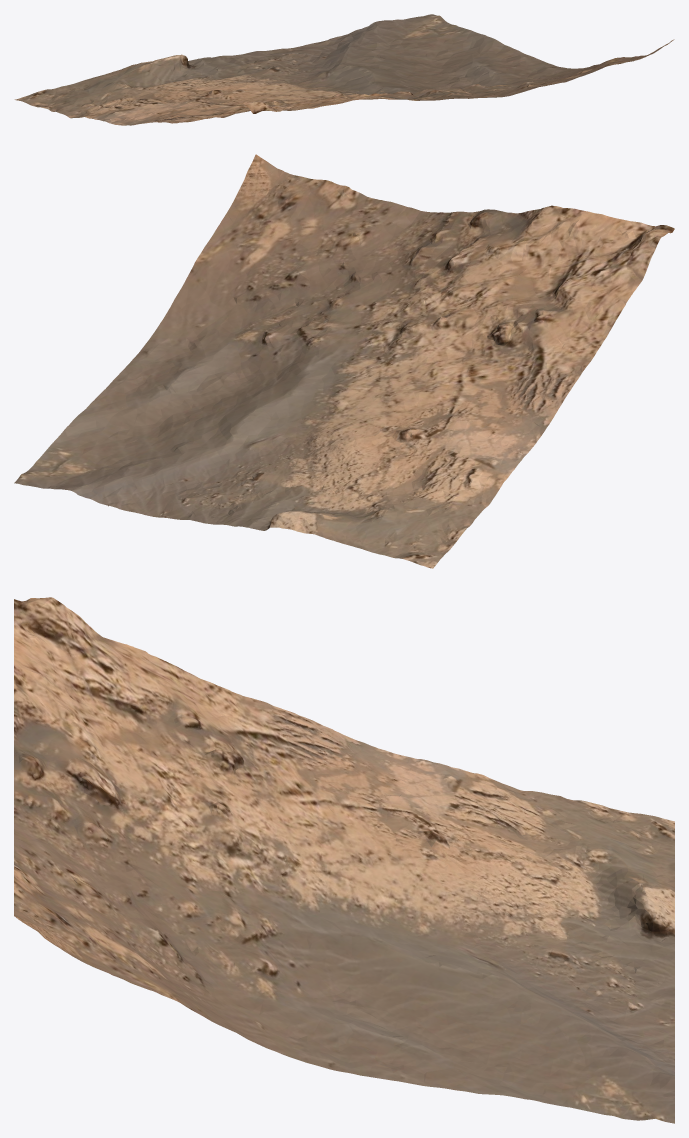
3 views of the same model, one above another, from view 1: azimuth 30°, elevation 25°; view 2: azimuth 150°, elevation 25°; view 3: azimuth 270°, elevation 25° (orthographic). The views are drawn at different scales.
Size of the model in its own units: 4.18 by 1.73 by 4.18.
3 materials, 3 textured.
